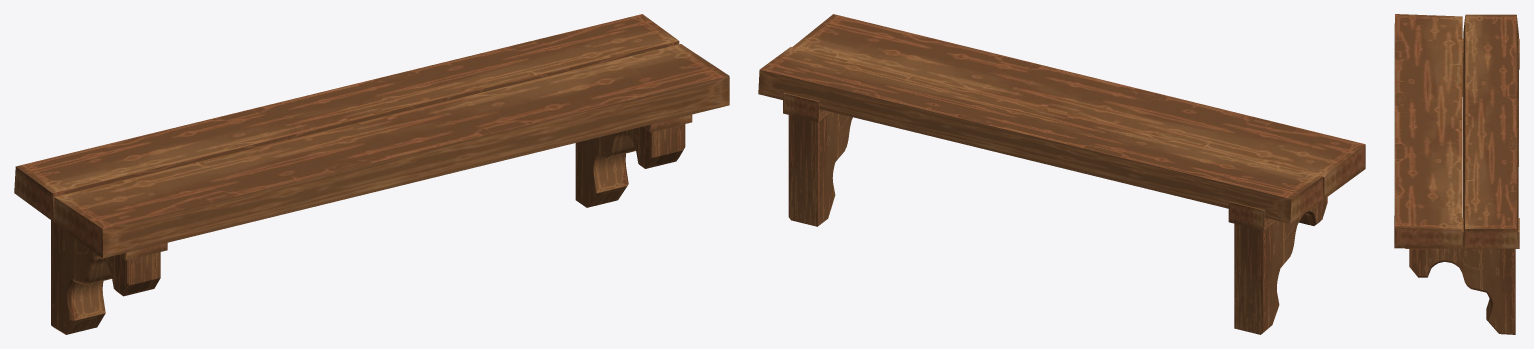
The model's file is Shelf_Simple.gltf.
3 views of the same model, side by side, from view 1: azimuth 30°, elevation 25°; view 2: azimuth 150°, elevation 25°; view 3: azimuth 270°, elevation 25° (orthographic). The views are drawn at different scales.
Parts seen in each view (by area): view 1: Shelf_Simple; view 2: Shelf_Simple; view 3: Shelf_Simple.
Part boxes in pixels (x1=…): Shelf_Simple: x1=14, y1=14, x2=729, y2=334; Shelf_Simple: x1=758, y1=14, x2=1365, y2=334; Shelf_Simple: x1=1394, y1=14, x2=1519, y2=334.
Size of the model in its own units: 1.18 by 0.3087 by 0.2923.
1 material, 1 textured.
